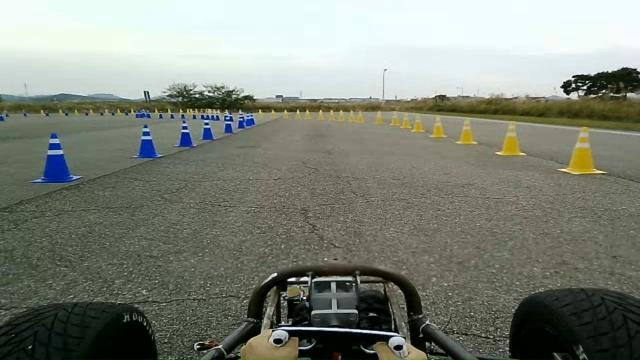blue cone: (29, 132, 83, 184), (130, 123, 164, 159), (173, 119, 197, 148), (198, 119, 216, 141), (222, 115, 235, 134), (244, 112, 256, 126), (238, 110, 245, 130)
yellow cone: (556, 126, 607, 174), (495, 120, 526, 156), (455, 117, 478, 145), (429, 115, 447, 138), (411, 114, 425, 132), (400, 112, 411, 128), (389, 111, 400, 126), (374, 110, 383, 124), (347, 110, 356, 122), (356, 110, 364, 122), (303, 109, 312, 119), (317, 109, 325, 120), (337, 109, 344, 121), (282, 108, 289, 119), (328, 109, 335, 120), (294, 108, 301, 119), (270, 109, 277, 119), (258, 108, 264, 118)
